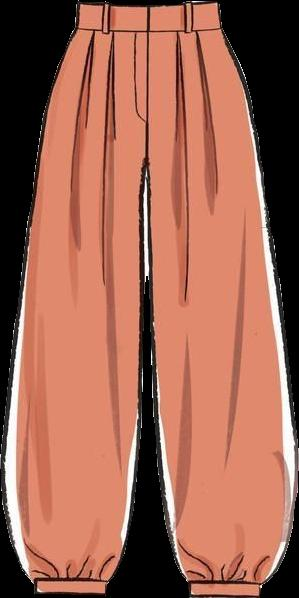Hemline: (36, 587, 107, 597), (188, 589, 259, 597)
Pantleg: (145, 1, 297, 597), (1, 2, 145, 596)
Waistline: (75, 22, 222, 38), (75, 0, 218, 11), (31, 574, 109, 585), (189, 577, 264, 587)
